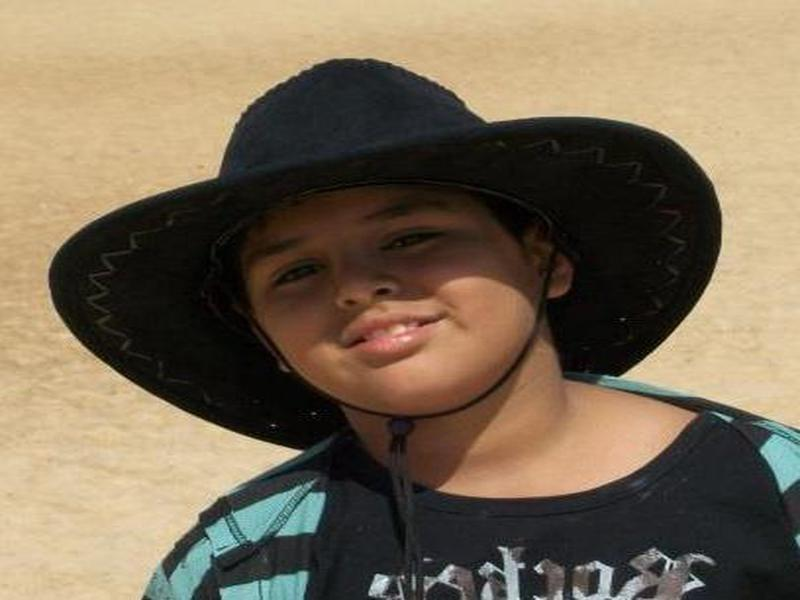without_mask: (234, 187, 531, 416)
